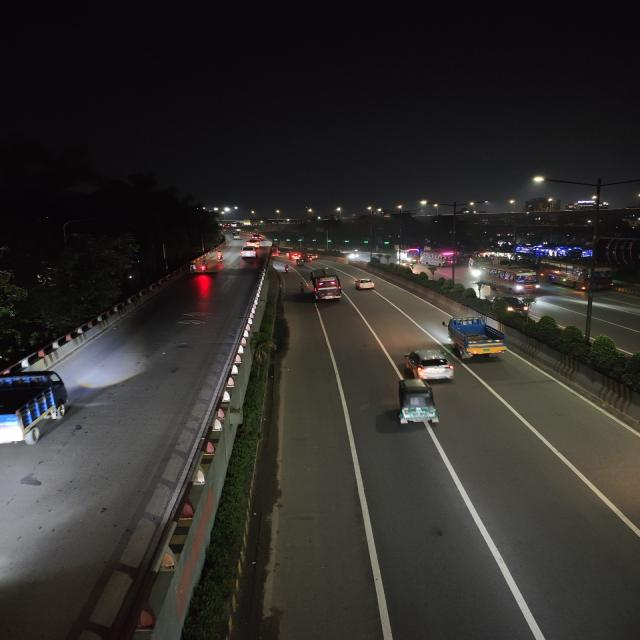bus: (541, 256, 619, 294), (479, 263, 540, 294), (310, 267, 343, 304), (419, 250, 458, 268), (396, 246, 420, 264)
car: (398, 344, 461, 384), (353, 274, 380, 295), (238, 246, 260, 260), (243, 238, 263, 248), (251, 233, 263, 240)
cng: (390, 376, 441, 435), (295, 256, 305, 268)
motorcycle: (197, 260, 210, 277), (215, 250, 226, 266), (282, 263, 293, 275)
pedestrian: (300, 281, 306, 295)
pickup_van: (0, 366, 73, 449), (445, 316, 510, 360)
